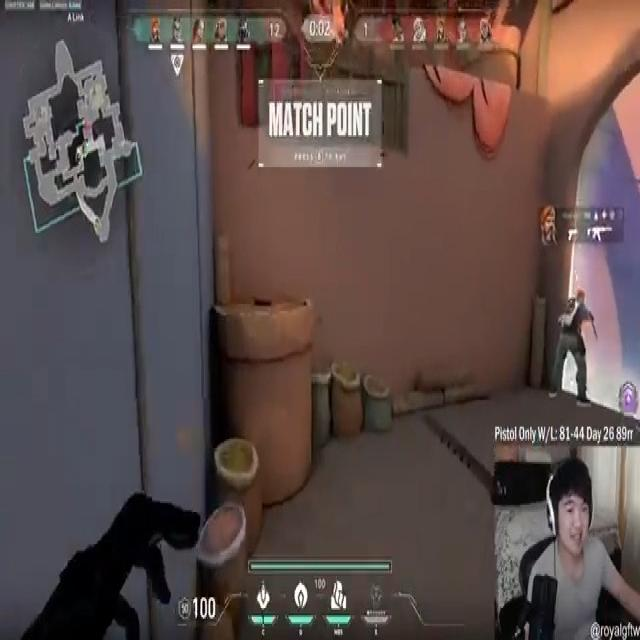ally: (548, 290, 595, 406)
